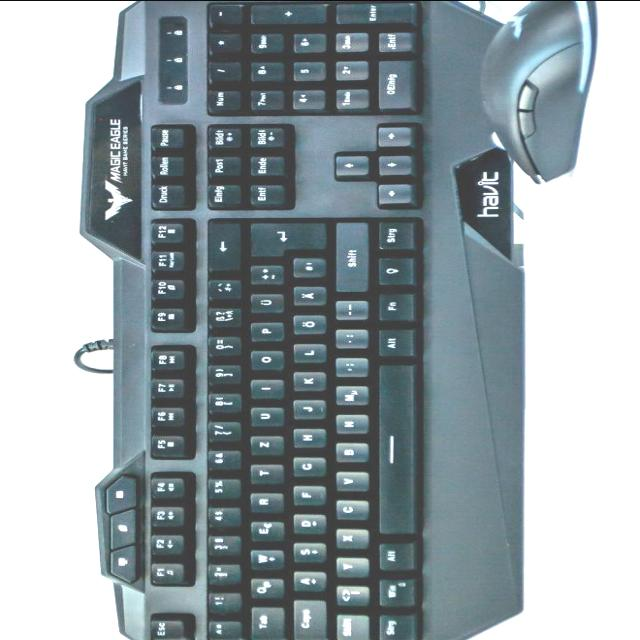0: (204, 336, 240, 358)
1: (205, 593, 239, 615)
2: (203, 564, 239, 587)
3: (205, 536, 239, 558)
4: (204, 507, 239, 528)
5: (204, 479, 240, 501)
6: (204, 450, 240, 472)
7: (204, 421, 239, 443)
8: (205, 393, 240, 415)
9: (204, 365, 240, 386)
a: (289, 572, 324, 594)
accent: (204, 280, 239, 301)
ae: (288, 287, 324, 308)
alt-left: (374, 543, 413, 573)
altgr-right: (374, 330, 412, 359)
b: (331, 443, 366, 464)
c: (332, 501, 366, 522)
caret: (204, 621, 240, 640)
comma: (331, 358, 366, 379)
d: (288, 515, 324, 536)
del: (204, 223, 240, 273)
e: (246, 522, 282, 543)
enter: (247, 224, 325, 259)
f: (288, 486, 323, 507)
g: (288, 458, 323, 478)
h: (288, 429, 323, 449)
hash: (288, 258, 323, 280)
i: (246, 380, 281, 400)
j: (288, 401, 323, 421)
k: (288, 373, 323, 394)
keyboard: (120, 0, 443, 640)
l: (288, 345, 323, 365)
less: (332, 586, 367, 608)
m: (331, 387, 366, 408)
minus: (331, 302, 366, 322)
n: (332, 415, 366, 436)
o: (246, 351, 282, 372)
oe: (288, 315, 324, 336)
p: (246, 323, 281, 343)
plus: (245, 265, 282, 287)
point: (332, 330, 365, 350)
q: (246, 579, 282, 601)
r: (246, 494, 282, 515)
s: (289, 544, 324, 565)
shift-left: (332, 615, 368, 640)
shift-lock: (289, 600, 325, 640)
shift-right: (332, 223, 367, 294)
space: (375, 365, 414, 538)
ss: (205, 308, 240, 329)
strg-left: (374, 614, 414, 640)
strg-right: (373, 223, 413, 253)
t: (246, 465, 281, 485)
tab: (246, 607, 283, 640)
u: (246, 408, 282, 428)
ue: (246, 295, 282, 315)
v: (332, 472, 366, 493)
w: (246, 551, 282, 572)
x: (332, 530, 366, 551)
y: (333, 559, 367, 579)
z: (246, 436, 281, 457)
